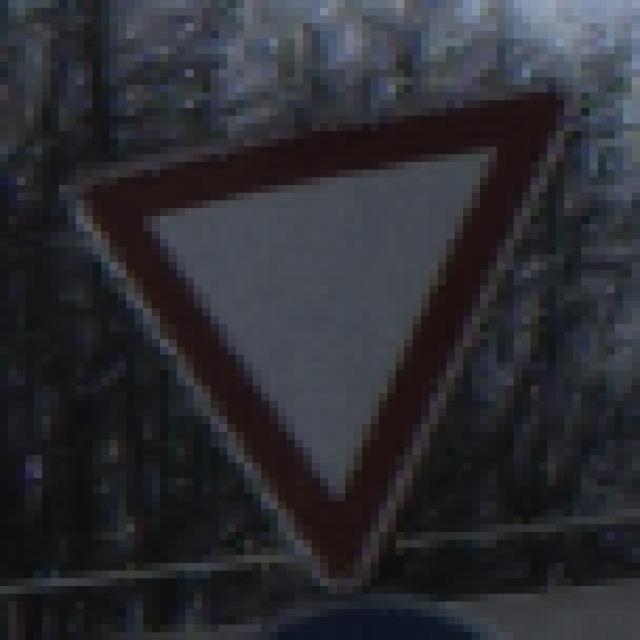Give Way: (52, 63, 591, 587)
